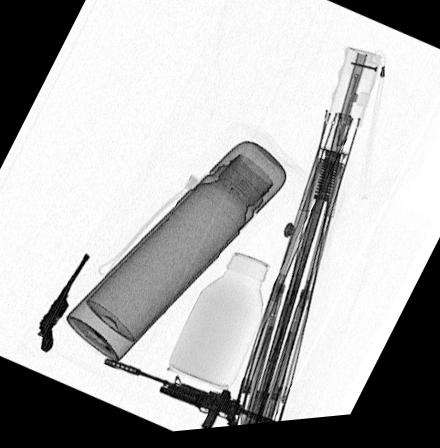Gun: (103, 360, 276, 433), (37, 255, 89, 354)
